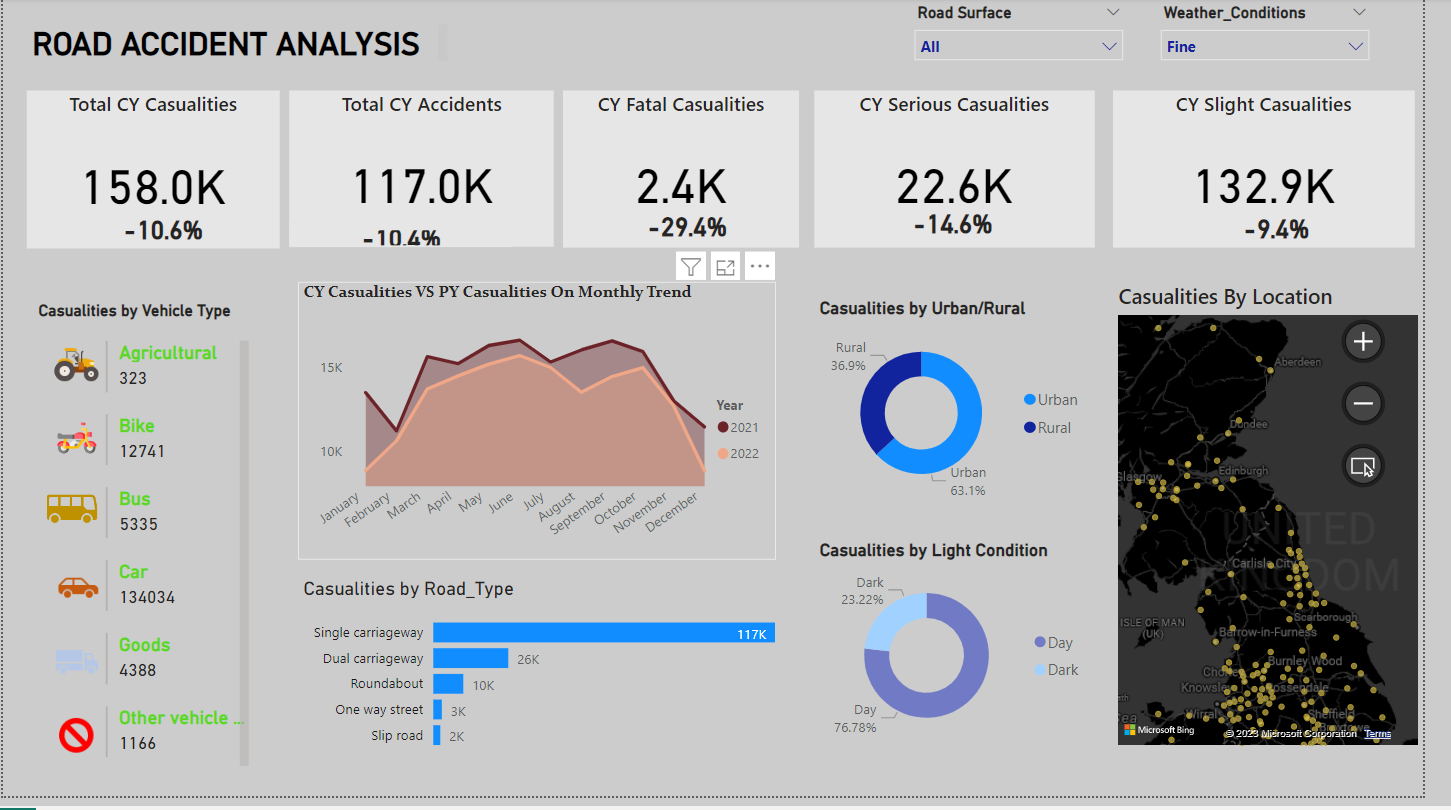

The page's visual inventory and layout, read from the dashboard file:
{"tool":"powerbi","page":{"name":"Page 1","canvas":[1280,720],"ordinal":0},"visuals":[{"type":"group","id":"g1","title":"Group 1","box":[22,83.7,227.8,142.7],"z":0},{"type":"card","title":"Total CY Casualities","fields":{"Values":["Data.CY Casulaties"]},"box":[22,83.7,227.8,142.7],"z":0,"group":"g1"},{"type":"card","title":"Total CY Accidents","fields":{"Values":["Data.CY Accidents"]},"box":[258,83.7,238.8,141.2],"z":0,"group":"g2"},{"type":"card","title":"CY Fatal Casualities","fields":{"Values":["Data.CY Casulaties"]},"box":[505,83.7,212.7,141.3],"z":0,"group":"g3"},{"type":"card","title":"CY Serious Casualities","fields":{"Values":["Data.CY Casulaties"]},"box":[731.4,83.7,252.5,141.3],"z":0,"group":"g4"},{"type":"card","title":"CY Slight Casualities","fields":{"Values":["Data.CY Casulaties"]},"box":[1000.3,83.7,271.7,141.3],"z":0,"group":"g5"},{"type":"group","id":"g2","title":"Group 1","box":[258,83.7,238.8,141.3],"z":1000},{"type":"card","fields":{"Values":["Data.YoY Casualities"]},"box":[796.6,187.7,118.5,31.3],"z":1000,"group":"g4"},{"type":"card","fields":{"Values":["Data.YoY Casualities"]},"box":[569.2,188.8,95.4,35],"z":1000,"group":"g3"},{"type":"card","fields":{"Values":["Data.YoY Casualities"]},"box":[1095.9,191.8,102.6,31.3],"z":1000,"group":"g5"},{"type":"card","fields":{"Values":["Data.YoY Casualities"]},"box":[102.2,192.9,86,31.6],"z":1000,"group":"g1"},{"type":"card","fields":{"Values":["Data.YoY Accidents"]},"box":[258,201.1,201.9,23.9],"z":1000,"group":"g2"},{"type":"group","id":"g3","title":"Group 1","box":[505,83.7,212.7,141.3],"z":2000},{"type":"group","id":"g4","title":"Group 1","box":[731.4,83.7,252.5,141.3],"z":3000},{"type":"group","id":"g5","title":"Group 1","box":[1000.3,83.7,271.7,141.3],"z":4000},{"type":"textbox","box":[22,19.2,384.2,50.8],"z":5000},{"type":"multiRowCard","fields":{"Values":["Data.Vehicle_Type (groups)","Data.CY Casualities"]},"box":[88.4,304.7,138.4,404.7],"z":6000},{"type":"image","box":[33.7,304.7,65.1,52.3],"z":7000},{"type":"image","box":[26.7,430.2,69.8,59.3],"z":8000},{"type":"image","box":[27.9,374.4,76.7,45.3],"z":9000},{"type":"image","box":[31.4,507,73.3,48.8],"z":10000},{"type":"image","box":[33.7,572.1,65.1,51.2],"z":11000},{"type":"image","box":[36,639.5,60.5,48.8],"z":12000},{"type":"textbox","box":[26.7,267.4,198.8,27.9],"z":13000},{"type":"areaChart","title":"CY Casualities VS PY Casualities On Monthly Trend","fields":{"Category":["Calender.Month"],"Y":["Sum(Data.Number_of_Casualties)"],"Series":["Calender.Date.Variation.Date Hierarchy.Year"]},"box":[266.3,255.8,430.2,251.2],"z":14000},{"type":"donutChart","title":"Casualities by Urban/Rural","fields":{"Category":["Data.Urban_or_Rural_Area"],"Y":["Data.CY Casualities"]},"box":[731.4,270.9,252.3,189.5],"z":15000},{"type":"donutChart","title":"Casualities by Light Condition","fields":{"Y":["Data.CY Casualities"],"Category":["Data.Light_Conditions (groups)"]},"box":[731.4,489.5,252.3,189.5],"z":16000},{"type":"barChart","title":"Casualities by Road_Type","fields":{"Category":["Data.Road_Type"],"Y":["Data.CY Casualities"]},"box":[266.3,522.1,443,166.3],"z":17000},{"type":"map","title":"Casualities By Location","fields":{"X":["Data.Longitude"],"Y":["Data.Latitude"],"Category":["Data.Local_Authority_(District)"]},"box":[1000,255.8,280.2,423.3],"z":18000},{"type":"slicer","fields":{"Values":["Data.Weather_Conditions (groups)"]},"box":[1033.3,0,208.6,70],"z":18001},{"type":"slicer","fields":{"Values":["Data.Road_Surface_Conditions (groups)"]},"box":[811,0,208.6,70],"z":18002}]}

Visuals, with their boxes in screenshot pixels (x1, y1, x2, y2), scaled from the page's 1280x720 canvas onto the 1451x810 screenshot:
"Group 1" group: select_region(25, 94, 283, 255)
"Total CY Casualities" card: select_region(25, 94, 283, 255)
"Total CY Accidents" card: select_region(292, 94, 563, 253)
"CY Fatal Casualities" card: select_region(572, 94, 814, 253)
"CY Serious Casualities" card: select_region(829, 94, 1115, 253)
"CY Slight Casualities" card: select_region(1134, 94, 1442, 253)
"Group 1" group: select_region(292, 94, 563, 253)
card - Data.YoY Casualities: select_region(903, 211, 1037, 246)
card - Data.YoY Casualities: select_region(645, 212, 753, 252)
card - Data.YoY Casualities: select_region(1242, 216, 1359, 251)
card - Data.YoY Casualities: select_region(116, 217, 213, 253)
card - Data.YoY Accidents: select_region(292, 226, 521, 253)
"Group 1" group: select_region(572, 94, 814, 253)
"Group 1" group: select_region(829, 94, 1115, 253)
"Group 1" group: select_region(1134, 94, 1442, 253)
textbox: select_region(25, 22, 460, 79)
multiRowCard - Data.Vehicle_Type (groups) x Data.CY Casualities: select_region(100, 343, 257, 798)
image: select_region(38, 343, 112, 402)
image: select_region(30, 484, 109, 551)
image: select_region(32, 421, 119, 472)
image: select_region(36, 570, 119, 625)
image: select_region(38, 644, 112, 701)
image: select_region(41, 719, 109, 774)
textbox: select_region(30, 301, 256, 332)
"CY Casualities VS PY Casualities On Monthly Trend" areaChart: select_region(302, 288, 790, 570)
"Casualities by Urban/Rural" donutChart: select_region(829, 305, 1115, 518)
"Casualities by Light Condition" donutChart: select_region(829, 551, 1115, 764)
"Casualities by Road_Type" barChart: select_region(302, 587, 804, 774)
"Casualities By Location" map: select_region(1134, 288, 1450, 764)
slicer - Data.Weather_Conditions (groups): select_region(1171, 0, 1408, 79)
slicer - Data.Road_Surface_Conditions (groups): select_region(919, 0, 1156, 79)
